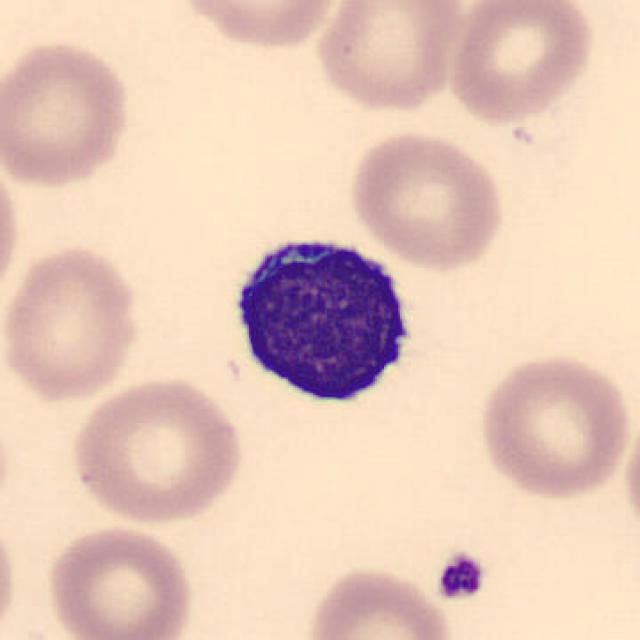Lymphocyte: (218, 218, 428, 420)
Platelets: (434, 550, 489, 603)
RBC: (66, 372, 249, 527), (473, 348, 635, 502), (343, 127, 509, 273), (0, 240, 146, 405), (0, 35, 137, 192), (444, 0, 601, 127), (41, 522, 197, 640), (311, 0, 469, 116), (301, 562, 458, 640), (172, 0, 348, 53), (0, 144, 25, 314), (0, 504, 23, 640)
